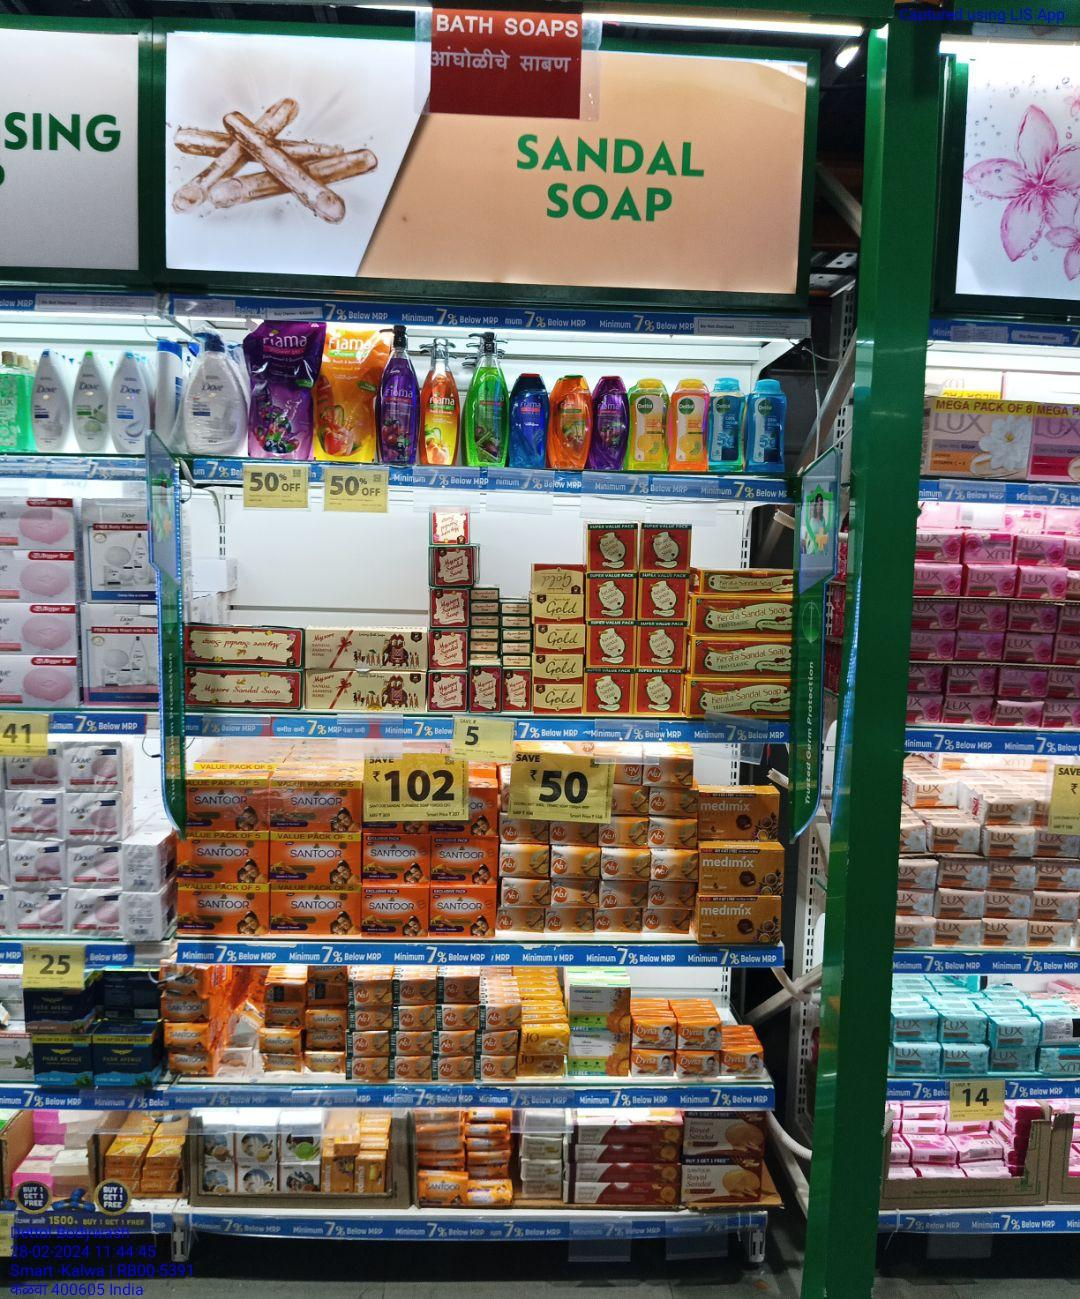Dettol_Bodywash_Cool: (749, 377, 784, 475), (709, 378, 744, 474)
Dove_Deep_Moisture_Body_Wash_250ML: (31, 346, 71, 455)
Dove_Gentle_Exfoliating_Body_Wash_250ML: (111, 352, 148, 454)
Dove_Refreshing_Body_Wash_250ML: (73, 348, 107, 455)
Lux_Body_Wash_Skin_Detox_Freesia_Scent_and_Alove_Vera_245ML: (0, 345, 27, 452)
